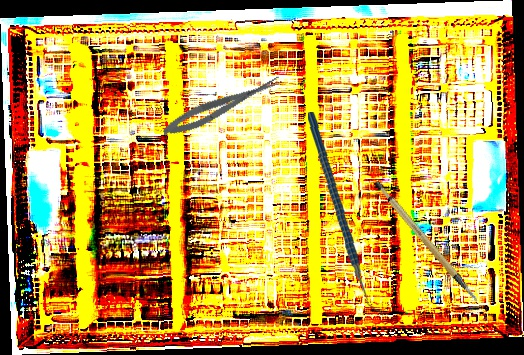Chopper: (301, 112, 390, 316)
Micro Scissor: (158, 71, 286, 142)
Scalpel Handle: (371, 169, 479, 316)
